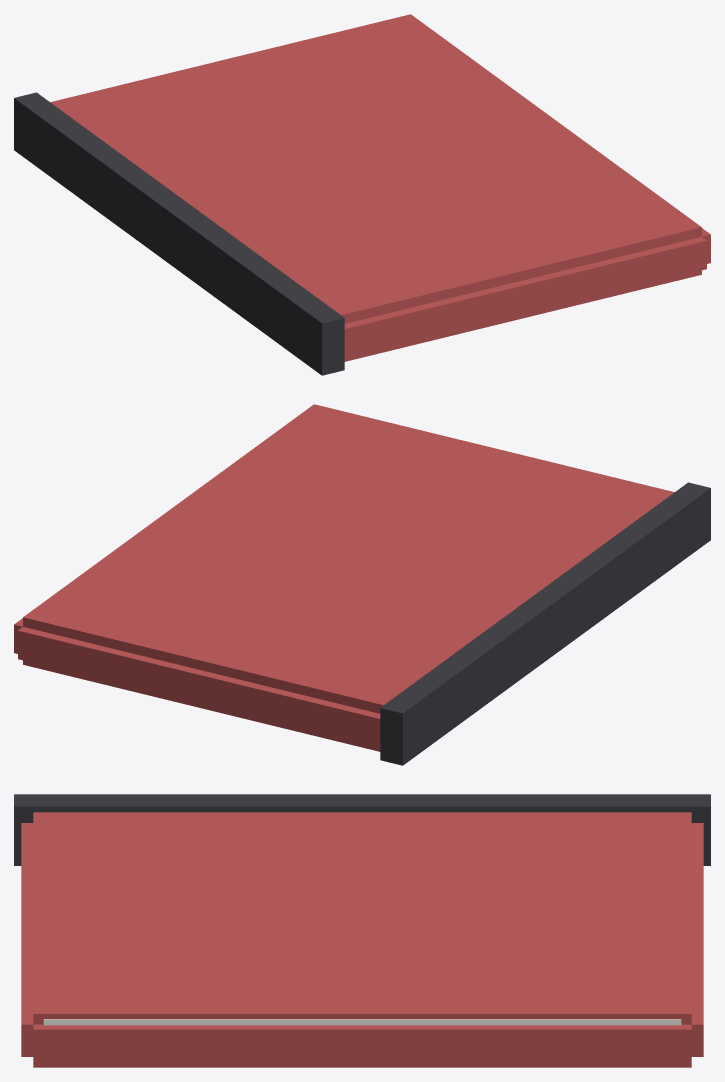
File: notebook.glb
3 views of the same model, one above another, from view 1: azimuth 30°, elevation 25°; view 2: azimuth 150°, elevation 25°; view 3: azimuth 270°, elevation 25° (orthographic). The views are drawn at different scales.
Visible parts, largest first — view 1: notebook; view 2: notebook; view 3: notebook.
Boxes of the visible parts, x1=… form: notebook: x1=14, y1=14, x2=710, y2=375; notebook: x1=14, y1=404, x2=710, y2=765; notebook: x1=14, y1=794, x2=710, y2=1067.
Bounding box in the file's own units: 0.175 × 0.022 × 0.235.
